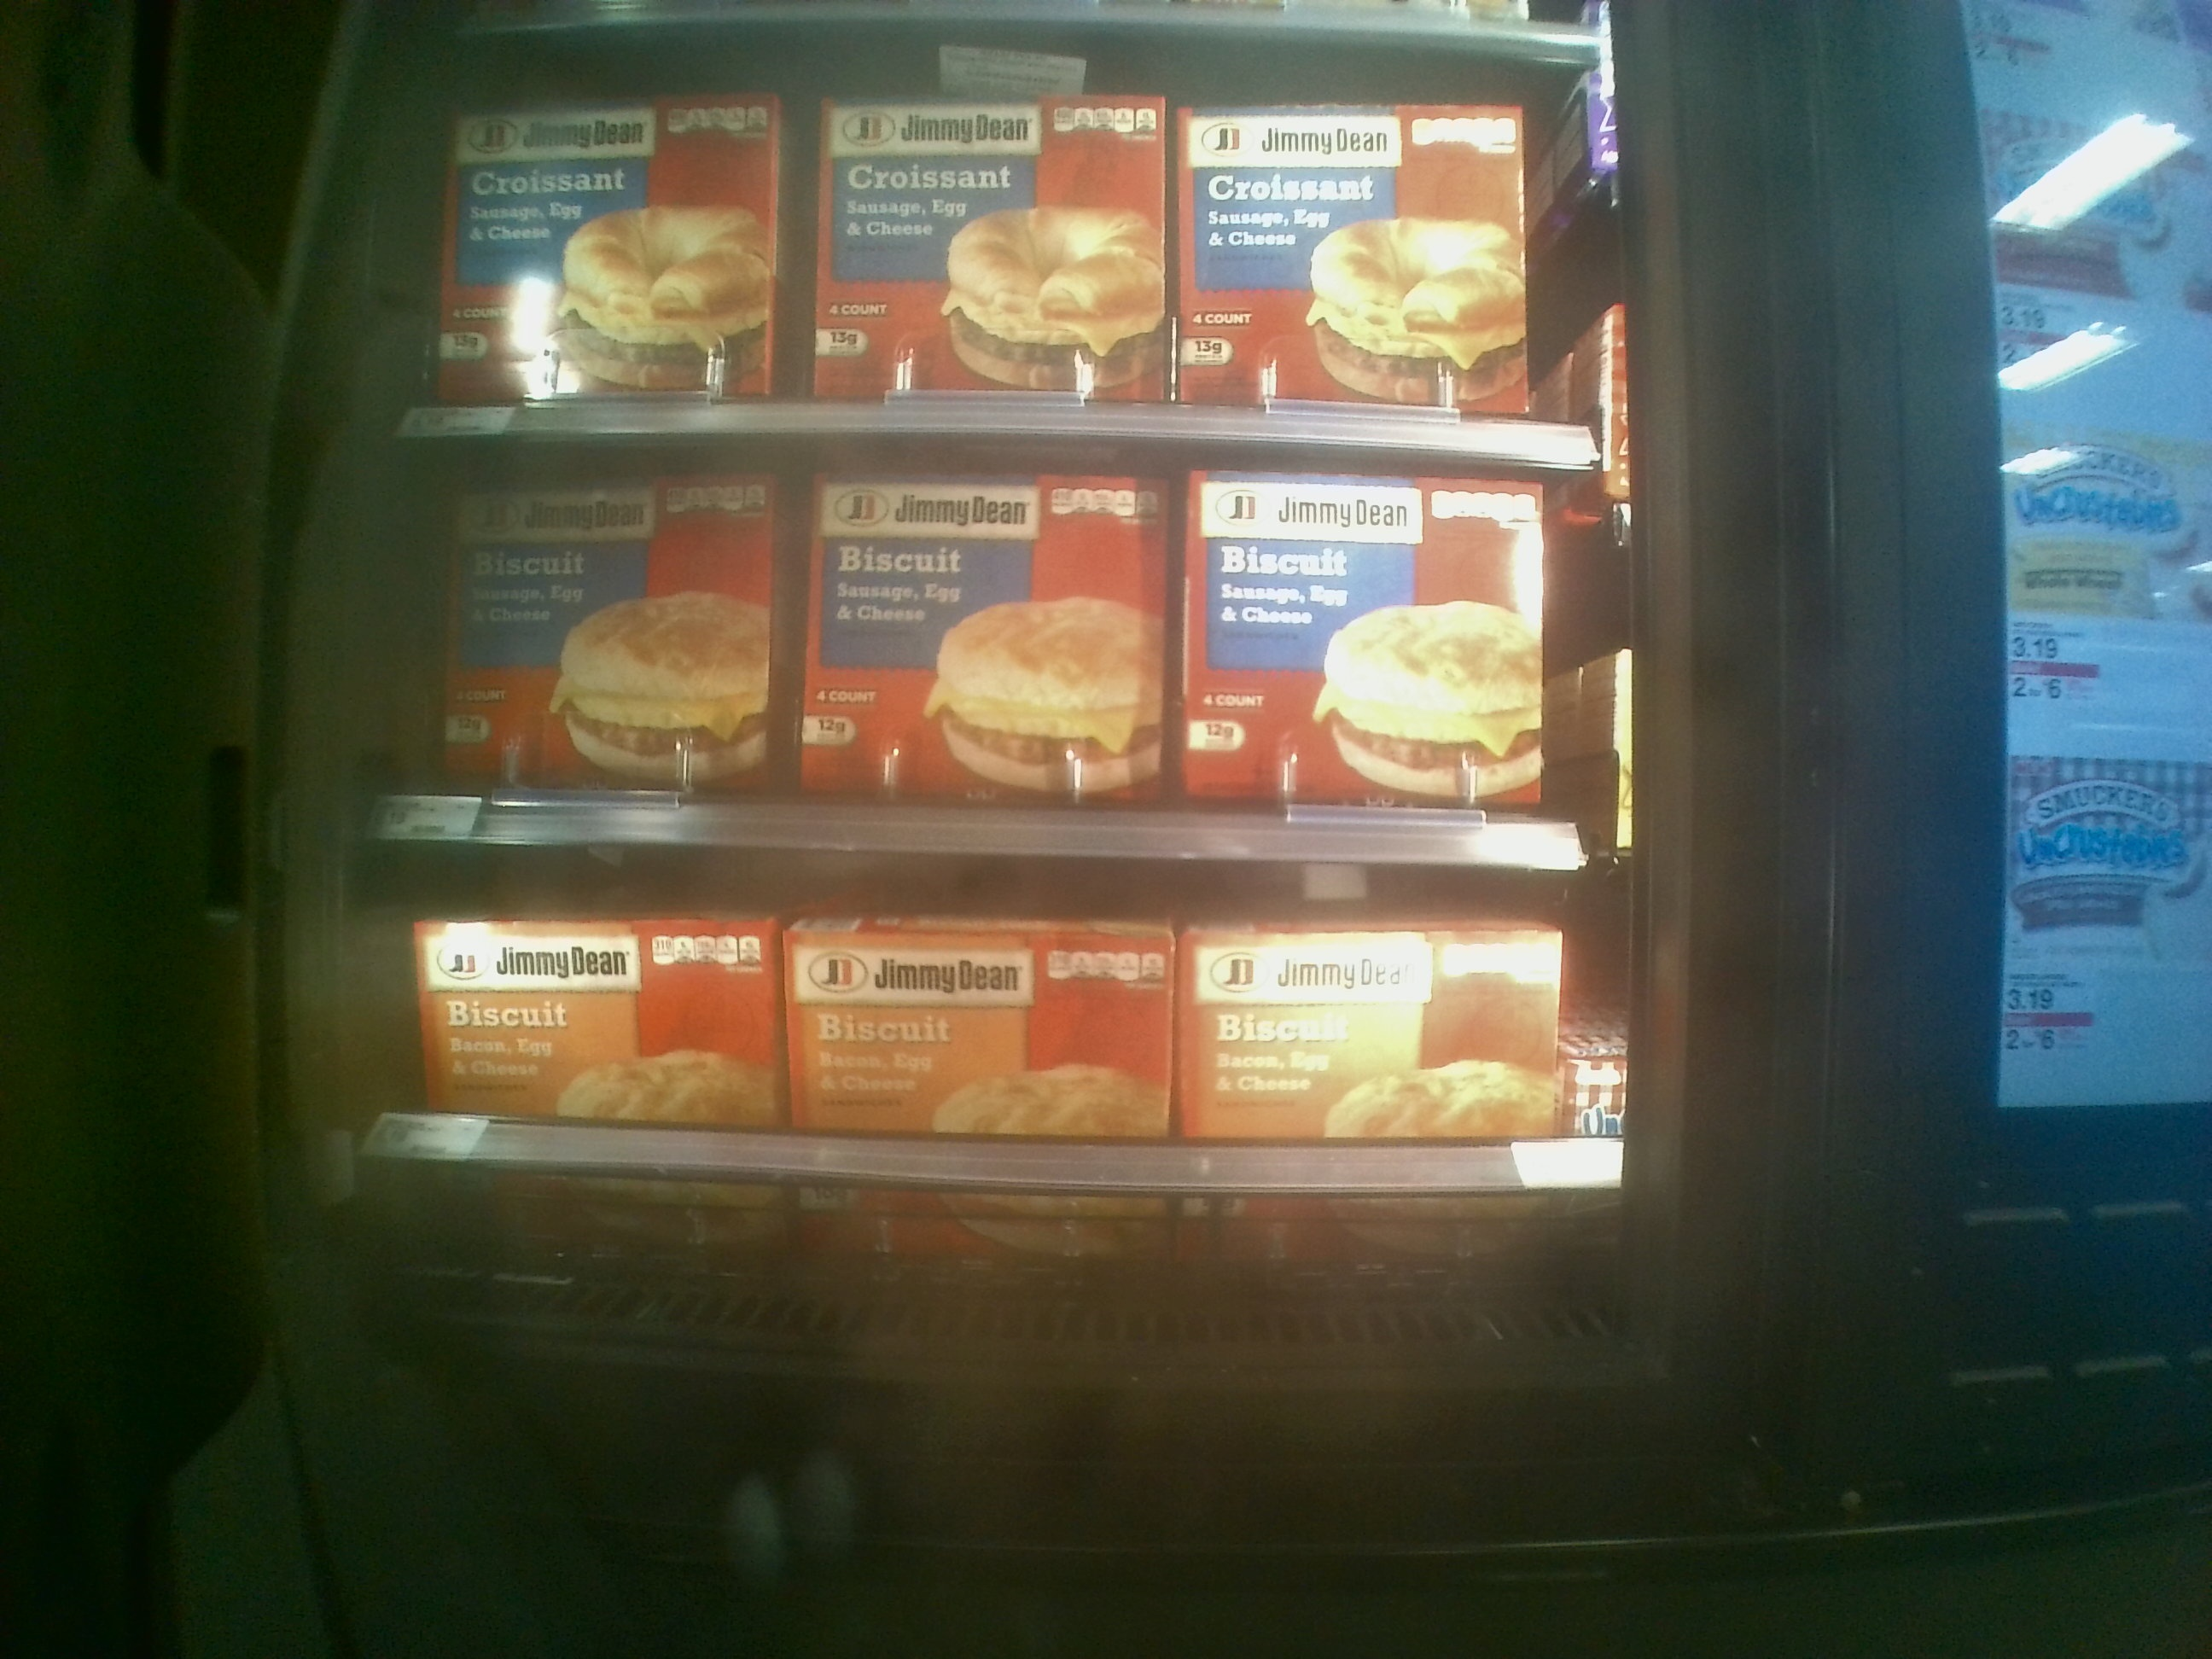shelf: (371, 430, 1588, 859)
